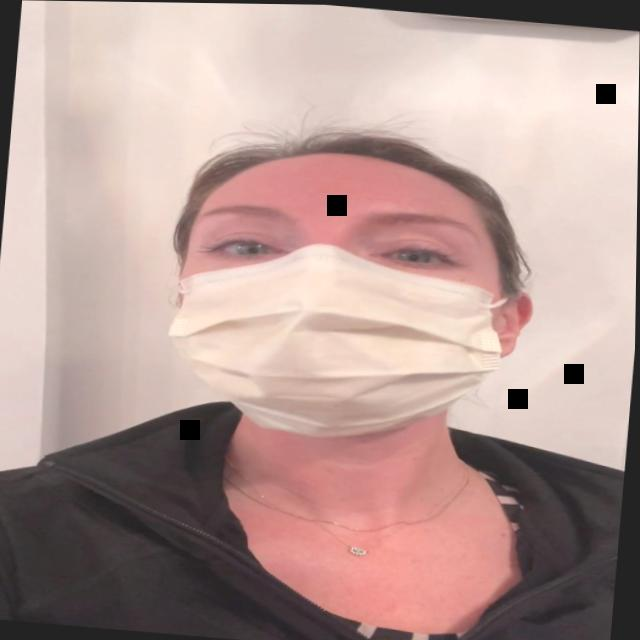Mask: (158, 140, 532, 451)
